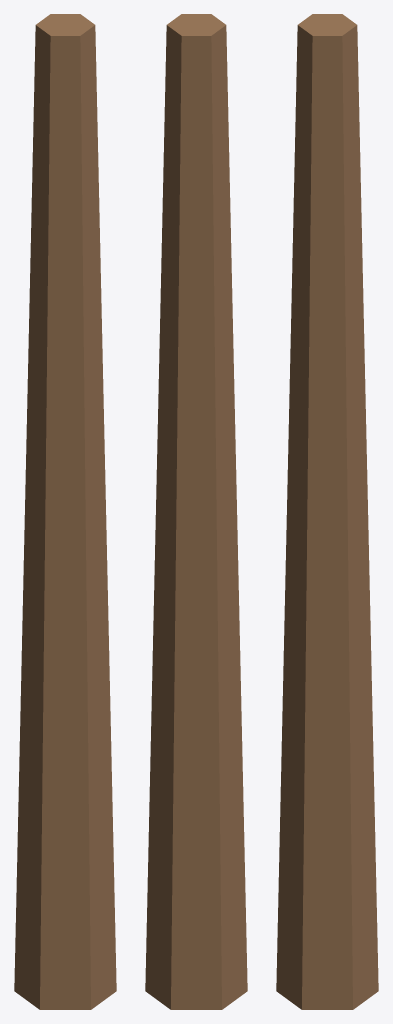
File: Branch.fbx
3 views of the same model, side by side, from view 1: azimuth 30°, elevation 25°; view 2: azimuth 210°, elevation 25°; view 3: azimuth 330°, elevation 25° (orthographic).
Visible parts, largest first — view 1: Branch; view 2: Branch; view 3: Branch.
Part boxes in pixels (left/top/right/bottom): Branch: left=14, top=14, right=116, bottom=1009; Branch: left=145, top=14, right=247, bottom=1009; Branch: left=276, top=14, right=378, bottom=1009.
Size of the model in its own units: 41.57 by 500 by 48.
